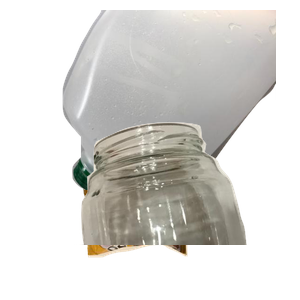glass: (74, 120, 300, 300)
metal: (89, 48, 276, 192)
plastic: (60, 10, 300, 190)
trash: (81, 168, 261, 300)
